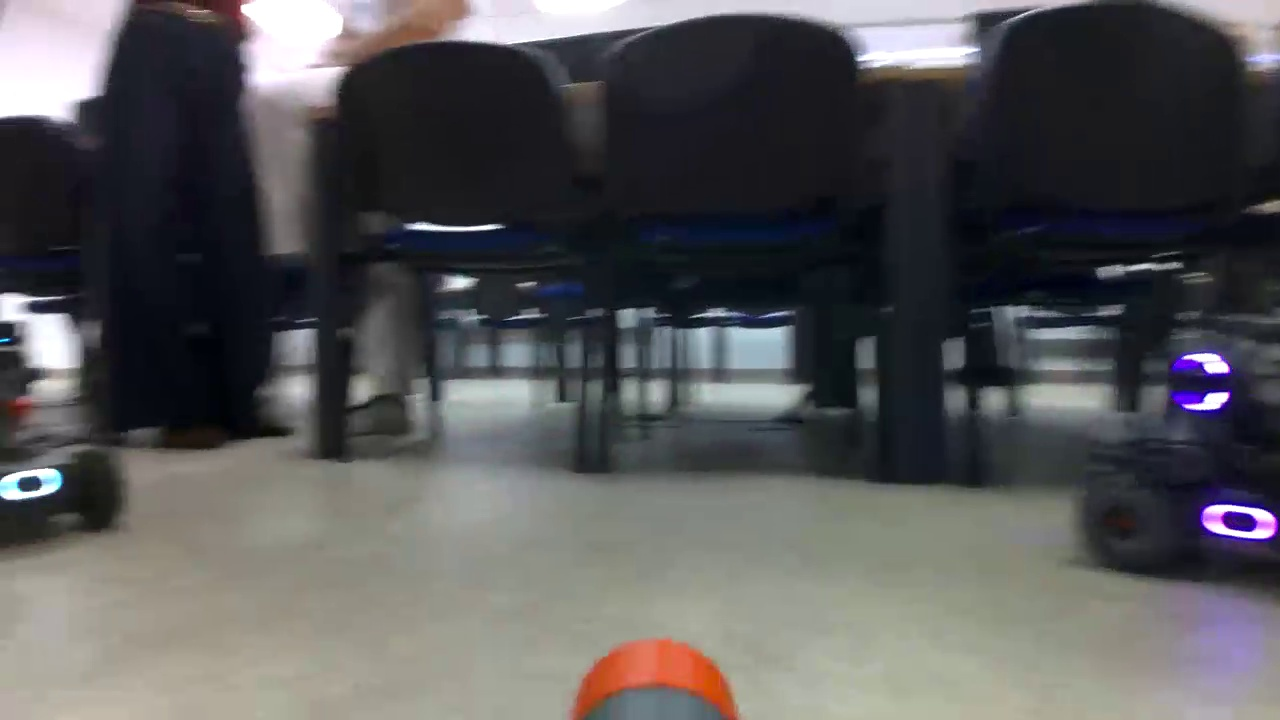robot: (1085, 320, 1280, 585), (1, 295, 128, 535)
